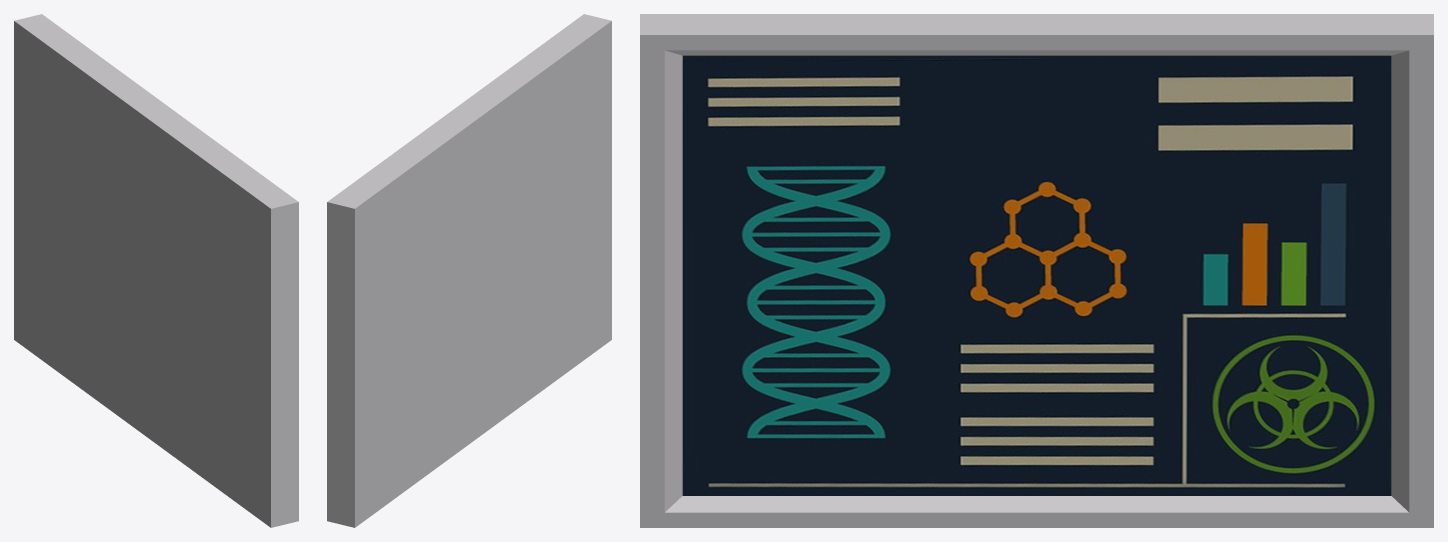
File: BlackBoard.fbx
The picture shows the model from 3 angles, left to right: view 1: azimuth 30°, elevation 25°; view 2: azimuth 150°, elevation 25°; view 3: azimuth 270°, elevation 25°; orthographic projection. The views are drawn at different scales.
Visible parts, largest first — view 1: Cube.010_183; view 2: Cube.010_183; view 3: Cube.010_183.
Boxes of the visible parts, x1,y1,x2,y2 form: Cube.010_183: (14,14,298,527); Cube.010_183: (327,14,611,527); Cube.010_183: (640,14,1433,527).
Size of the model in its own units: 6.42 by 70.25 by 103.
